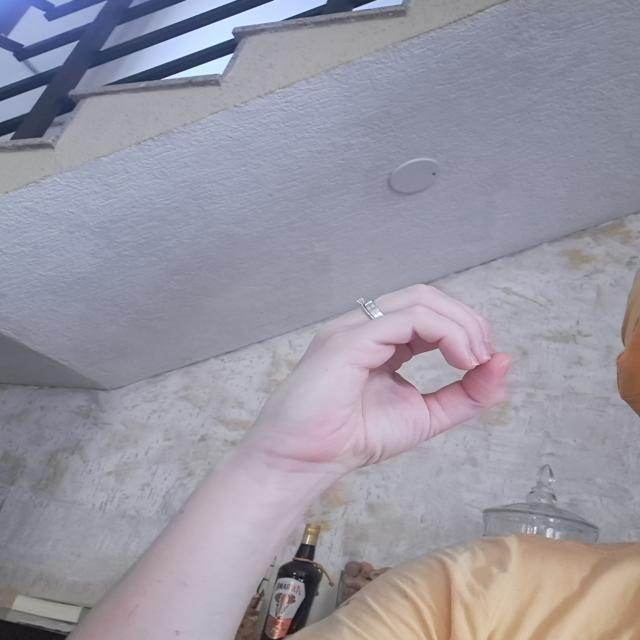O: (259, 280, 515, 480)
